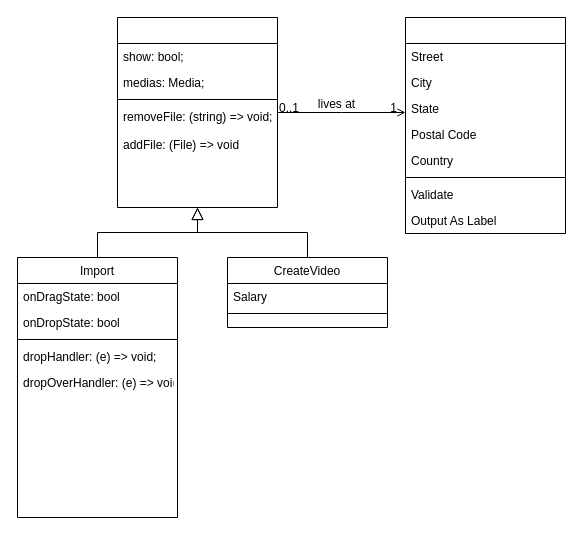
This 583x538 diagram has some shape labels left out. Each missing label, with the box of its shape:
Address: (404, 16, 566, 234)
App: (116, 16, 278, 208)
